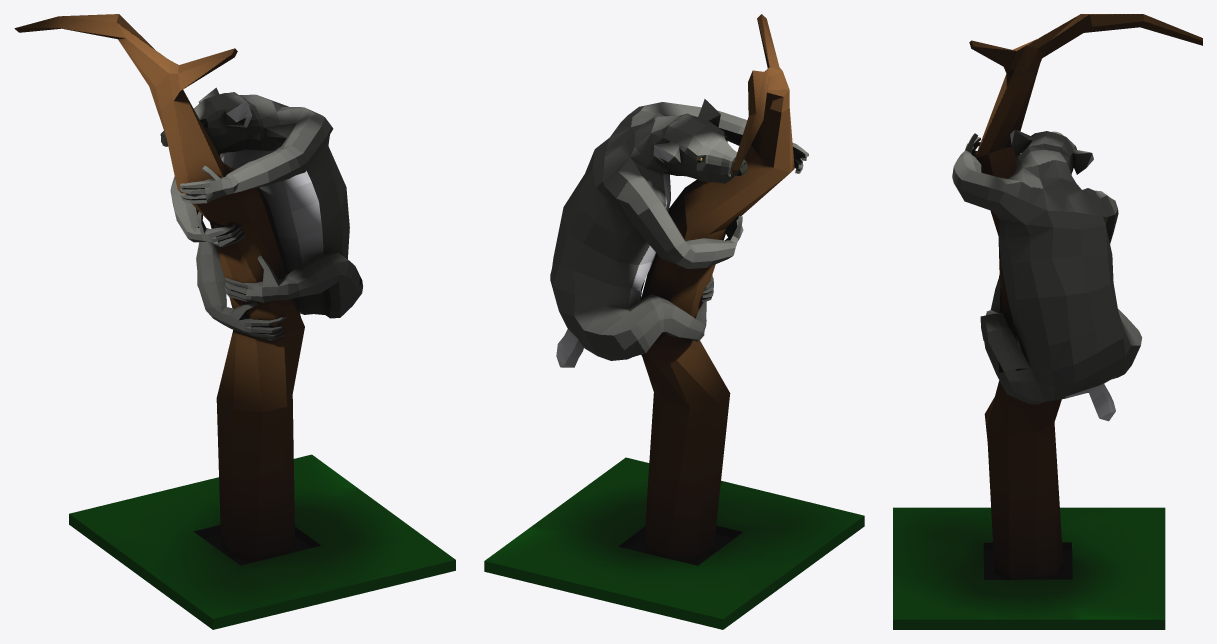
Rendered from megaladapis.glb.
3 renders of one model, left to right at view 1: azimuth 30°, elevation 25°; view 2: azimuth 150°, elevation 25°; view 3: azimuth 270°, elevation 25°, orthographic. The views are drawn at different scales.
Bounding box in the file's own units: 1.34 × 2.49 × 1.37.
1 material, 1 textured.
